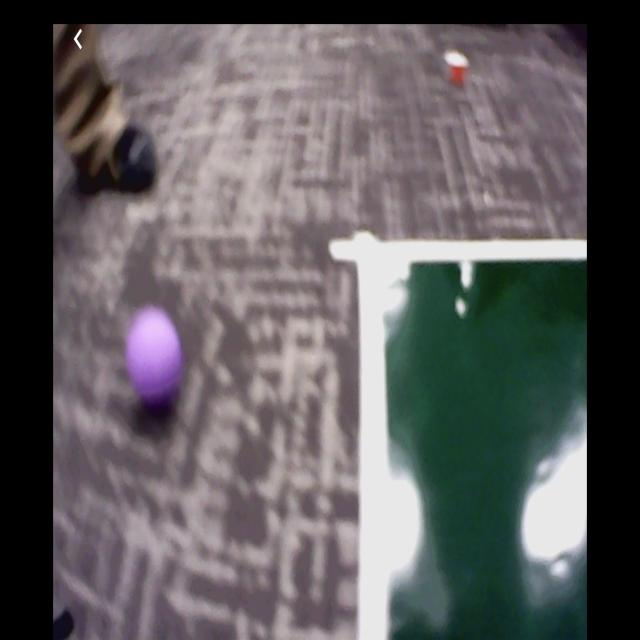ball: (130, 310, 183, 401)
